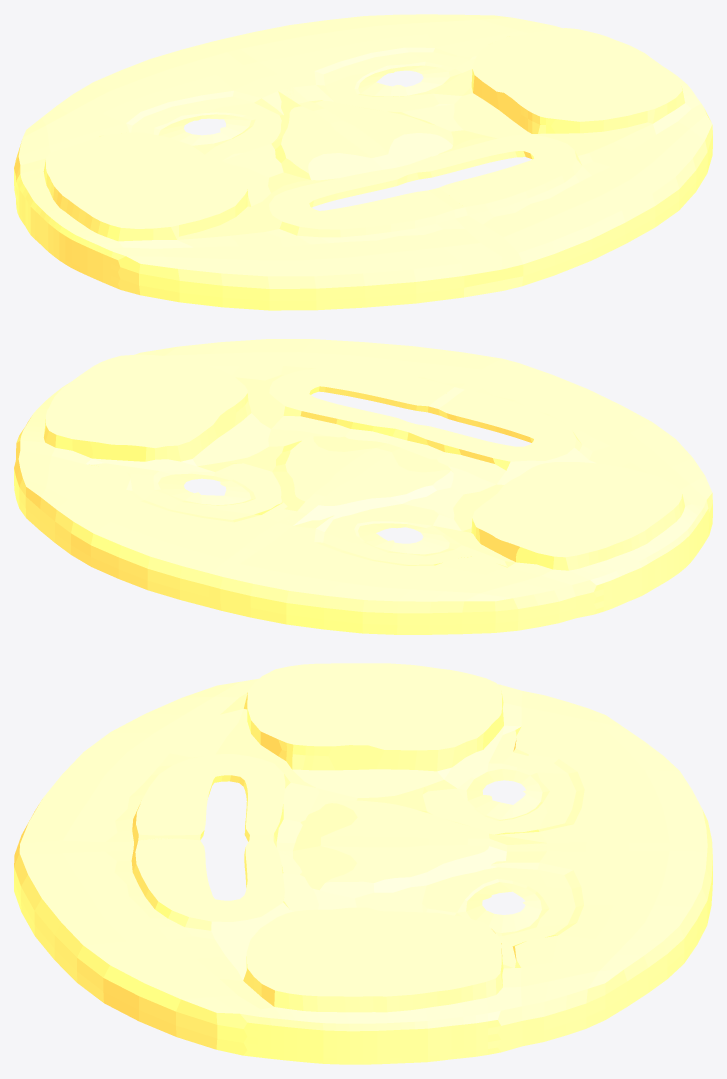
File: mascara_.glb
The picture shows the model from 3 angles, top to bottom: view 1: azimuth 30°, elevation 25°; view 2: azimuth 150°, elevation 25°; view 3: azimuth 270°, elevation 25°; orthographic projection. The views are drawn at different scales.
Visible parts, largest first — view 1: Cube; view 2: Cube; view 3: Cube.
Boxes of the visible parts, box(x1,y1,x2,y2) form: Cube: box(14, 14, 712, 310); Cube: box(14, 339, 712, 634); Cube: box(14, 663, 712, 1064).
Bounding box in the file's own units: 6.86 × 0.551 × 5.71.
